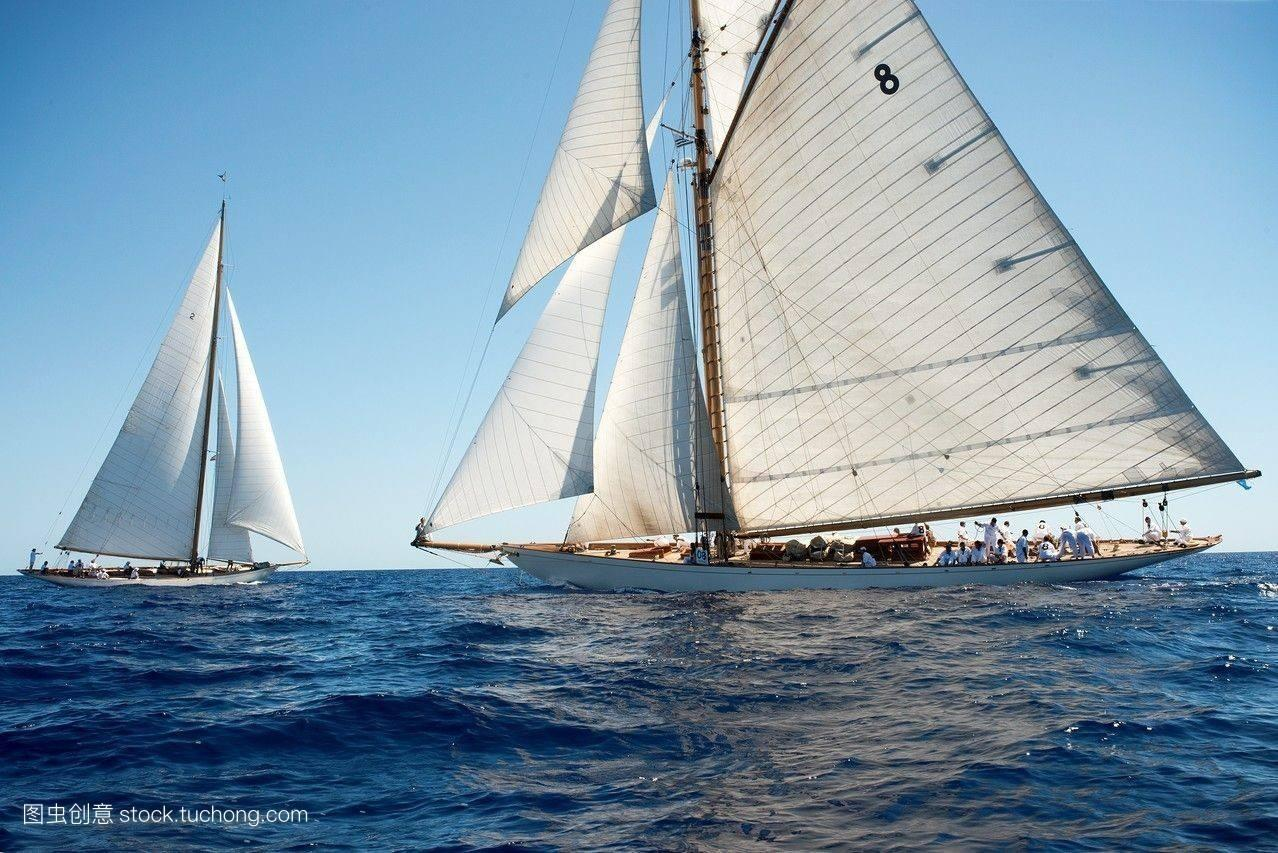fanchuan: (409, 1, 1263, 593), (21, 178, 336, 593)
